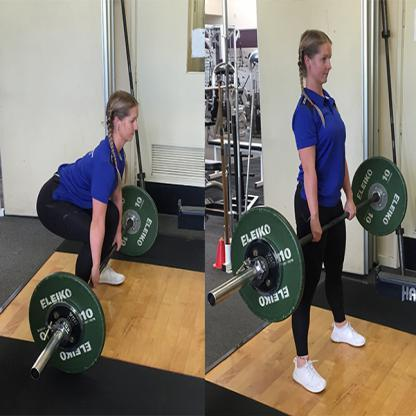barbell: (209, 157, 408, 322), (29, 182, 158, 376)
